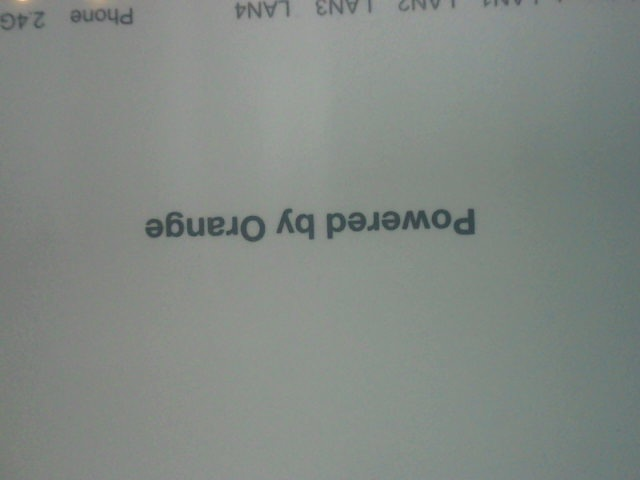AS_PowerByOrange: (101, 194, 498, 246)
